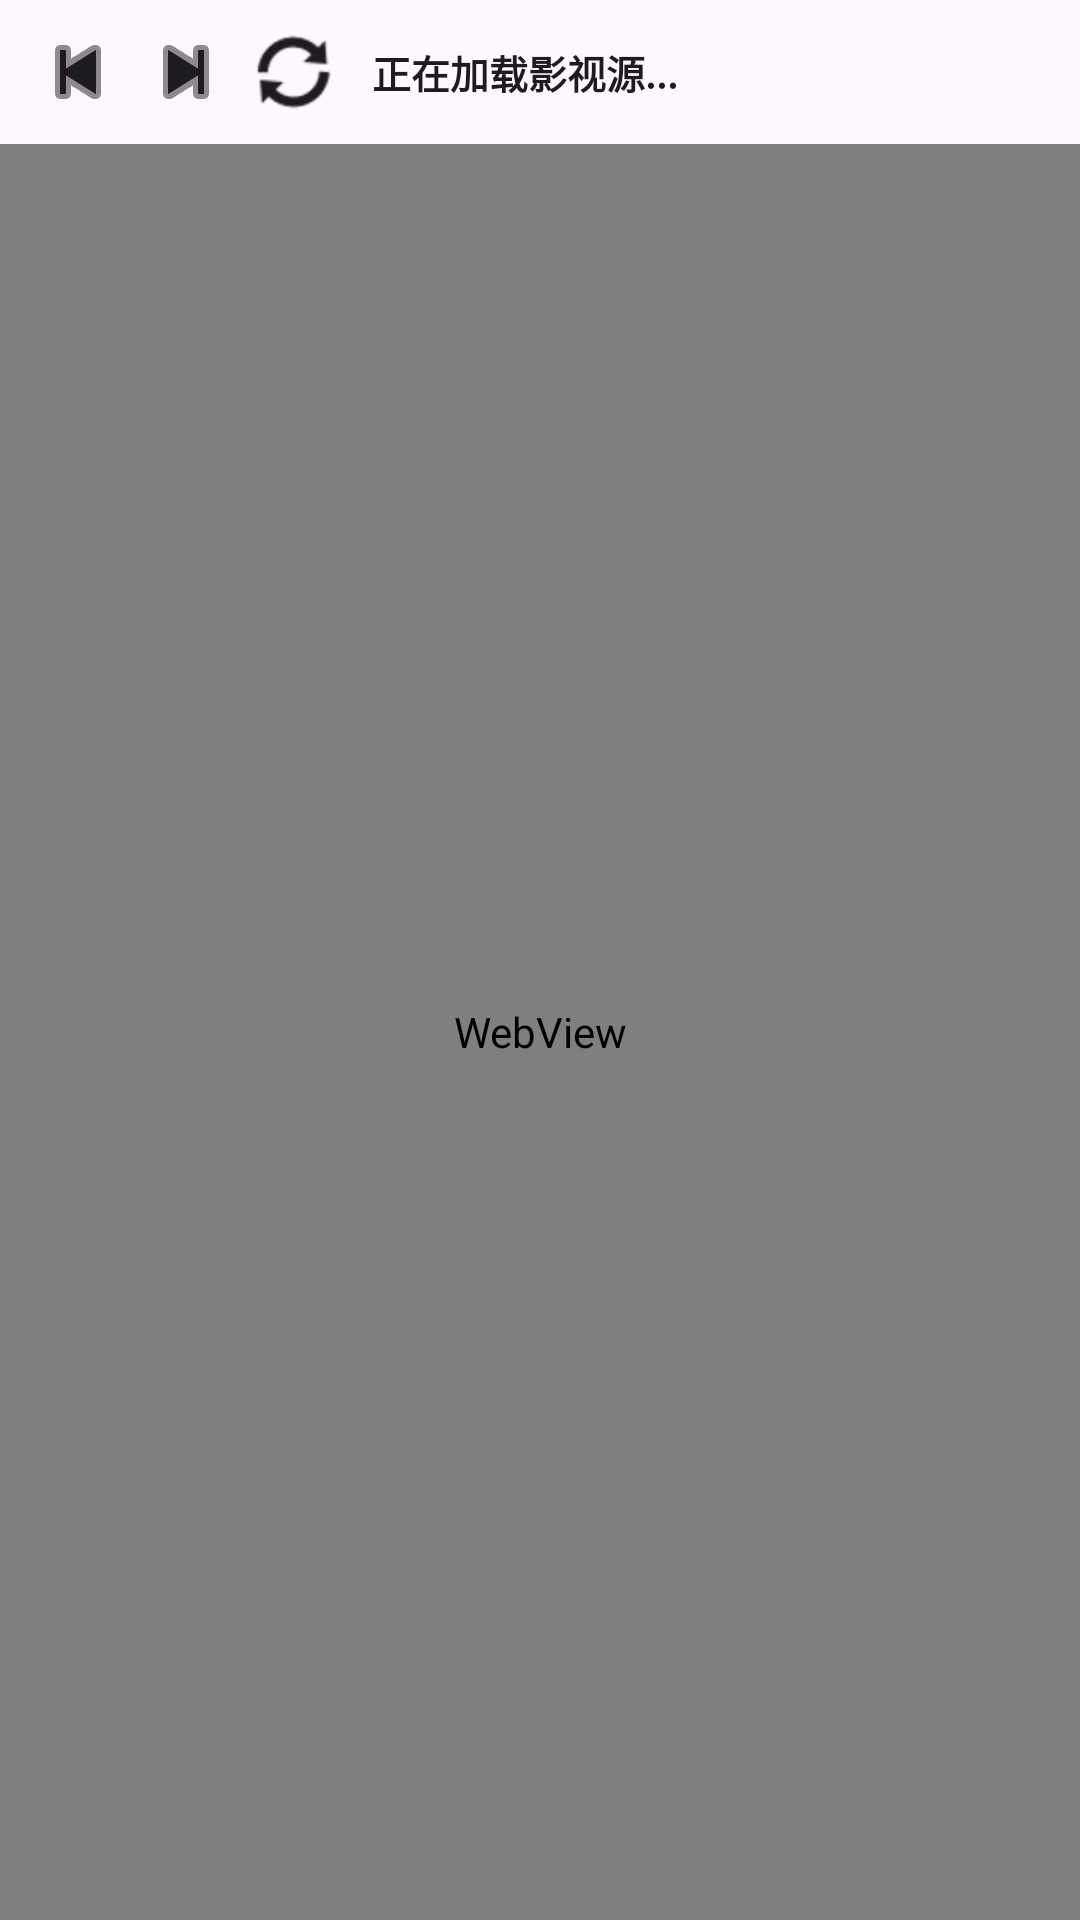

Icon click points for this 1080x1920 phone screenshot, format (x,y):
next: (186,72)
popup sync: (294,72)
previous: (78,72)
